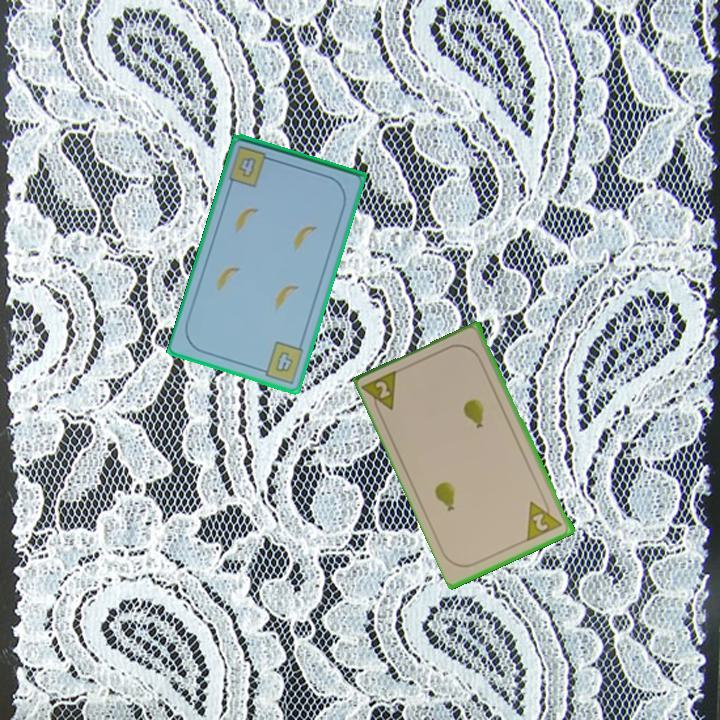2p: (360, 366, 402, 419), (523, 494, 566, 544)
4b: (255, 338, 307, 387), (235, 154, 260, 181)
